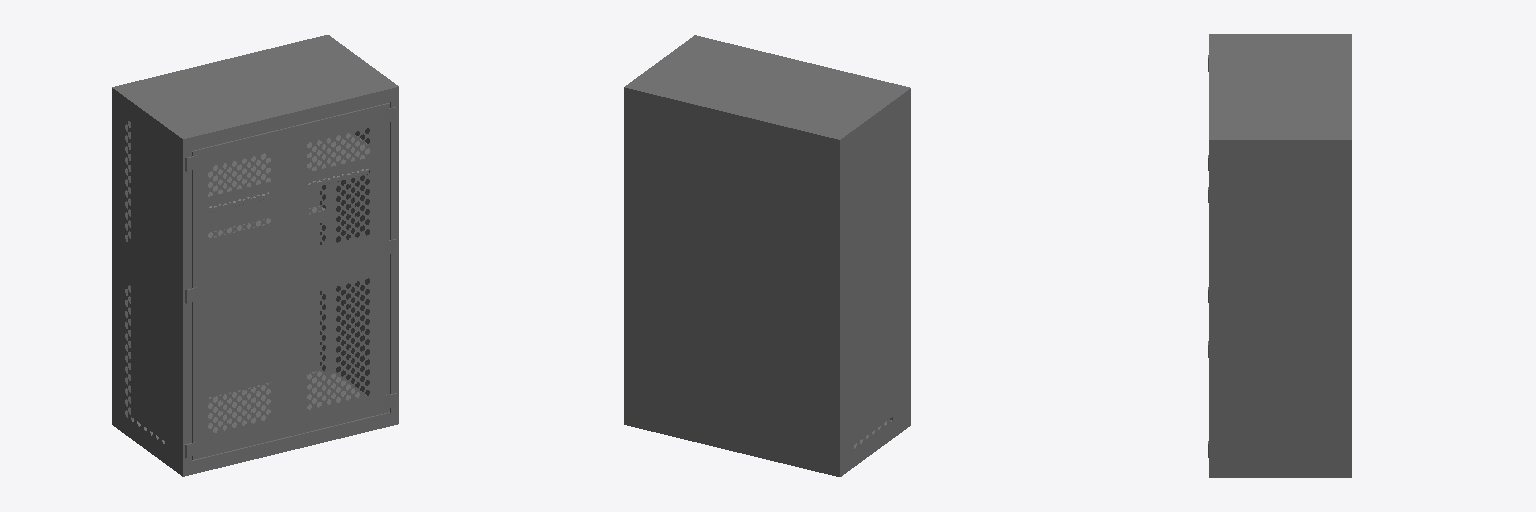
3 renders of one model, left to right at view 1: azimuth 30°, elevation 25°; view 2: azimuth 150°, elevation 25°; view 3: azimuth 270°, elevation 25°, orthographic.
Visible parts, largest first — view 1: Locker; view 2: Locker; view 3: Locker.
Boxes of the visible parts, <box> form: Locker: <box>112,35,398,476</box>; Locker: <box>624,35,910,476</box>; Locker: <box>1208,34,1351,477</box>.
Bounding box in the file's own units: 2.31 × 3.44 × 1.33.
1 materials, 1 textured.